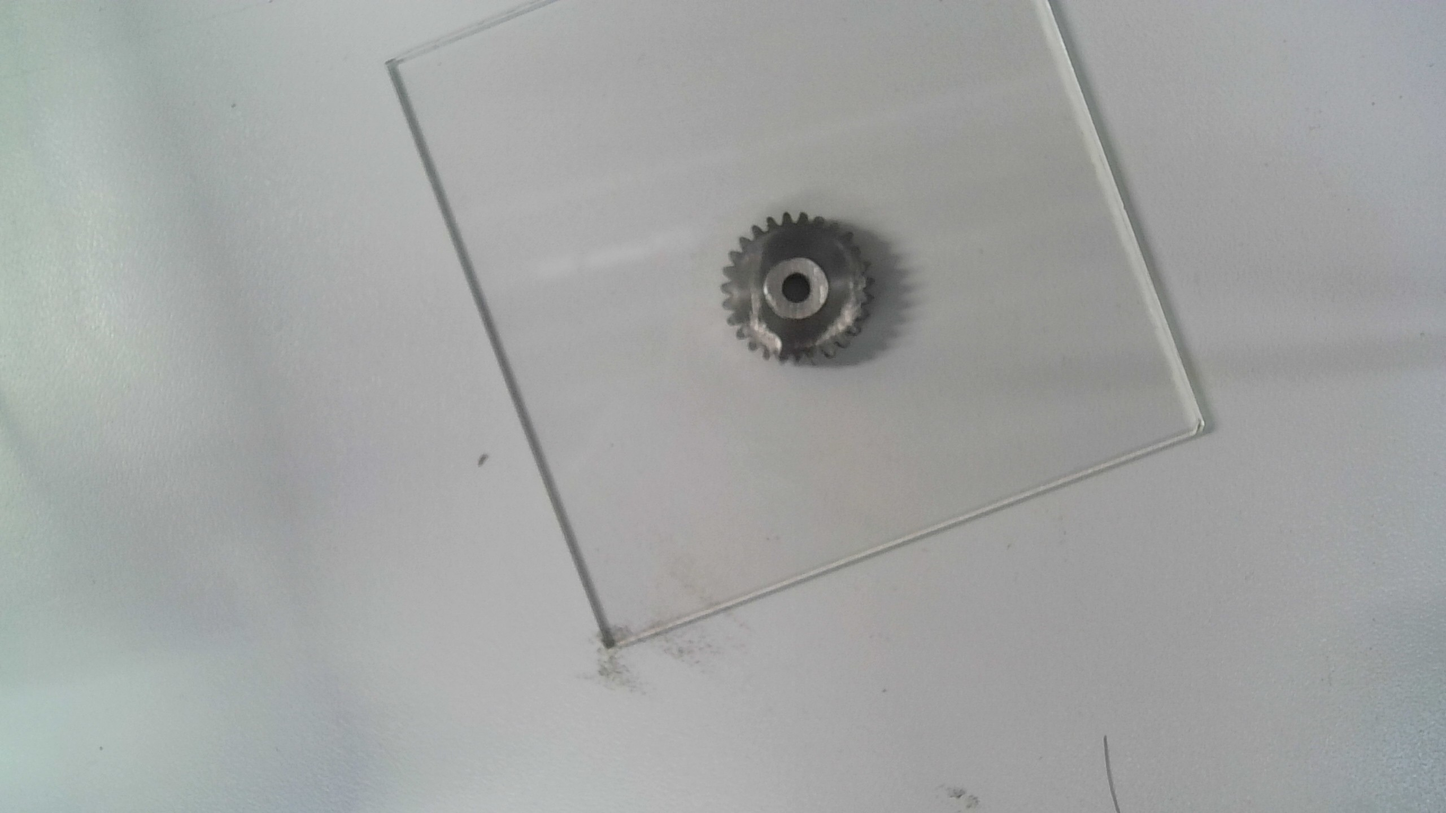gear: (718, 209, 879, 373)
